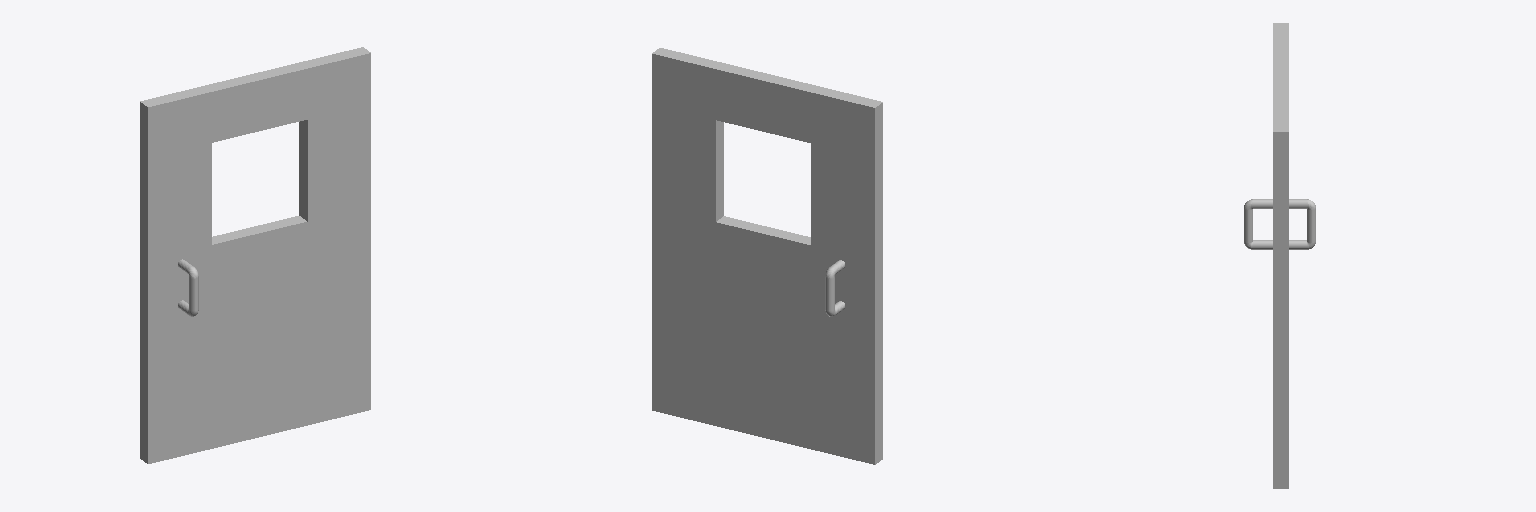
File: puerta_metal.obj
The picture shows the model from 3 angles: view 1: azimuth 30°, elevation 25°; view 2: azimuth 150°, elevation 25°; view 3: azimuth 270°, elevation 25°; orthographic projection.
Parts seen in each view (by area): view 1: Cubo.002_Cubo.005; view 2: Cubo.002_Cubo.005; view 3: Cubo.002_Cubo.005.
Boxes of the visible parts, <box> form: Cubo.002_Cubo.005: <box>140,47,370,463</box>; Cubo.002_Cubo.005: <box>652,48,882,464</box>; Cubo.002_Cubo.005: <box>1244,23,1315,488</box>.
Size of the model in its own units: 1.56 by 2.38 by 0.4385.